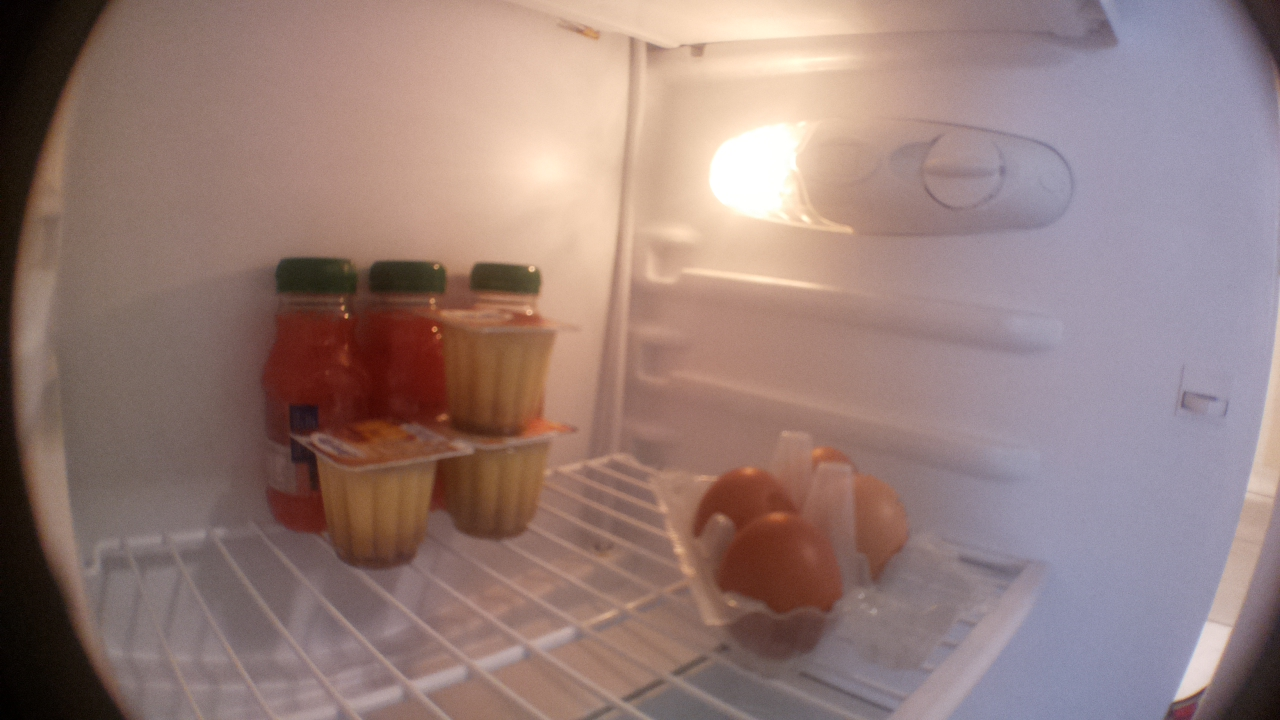caramel: (285, 408, 472, 574), (409, 301, 595, 436), (419, 414, 584, 555)
egg: (713, 508, 842, 665), (823, 476, 908, 615), (681, 468, 801, 549), (796, 434, 864, 508)
juice: (248, 249, 369, 536), (363, 258, 456, 417), (464, 255, 550, 318)
